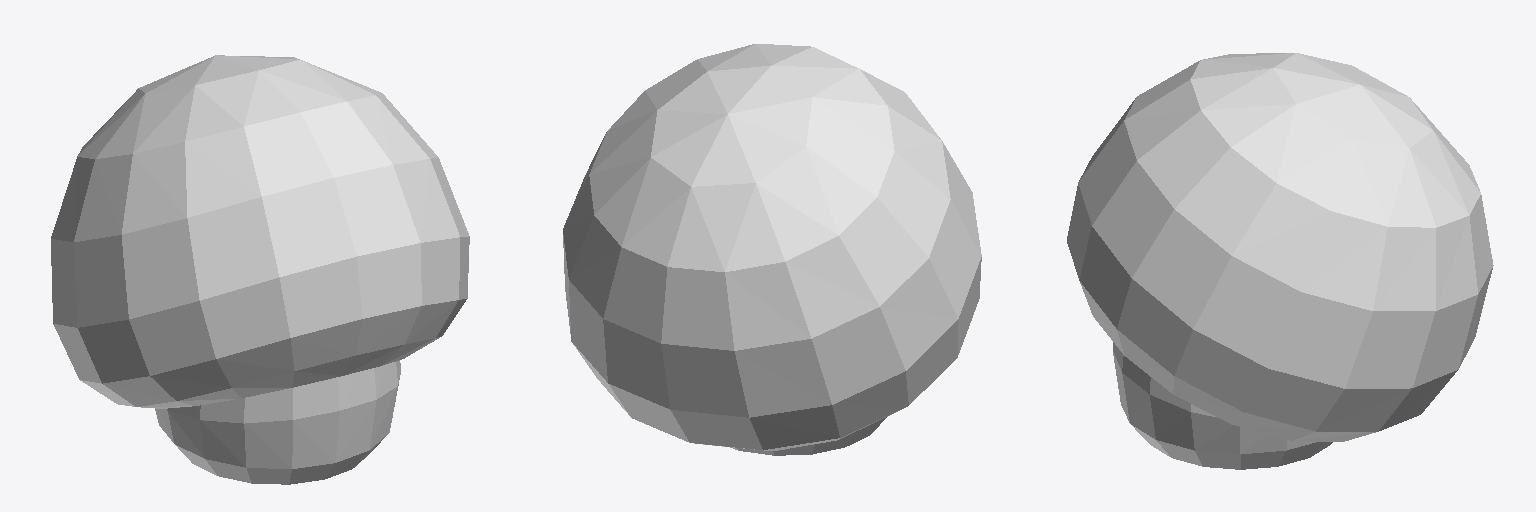
The model's file is speedUp.obj.
The picture shows the model from 3 angles: view 1: azimuth 30°, elevation 25°; view 2: azimuth 150°, elevation 25°; view 3: azimuth 270°, elevation 25°; orthographic projection.
Parts seen in each view (by area): view 1: shroom; view 2: shroom; view 3: shroom.
Part boxes in pixels (left/top/right/bottom): shroom: left=51, top=55, right=469, bottom=484; shroom: left=563, top=44, right=981, bottom=455; shroom: left=1067, top=53, right=1493, bottom=469.
Size of the model in its own units: 1.6 by 1.56 by 1.61.